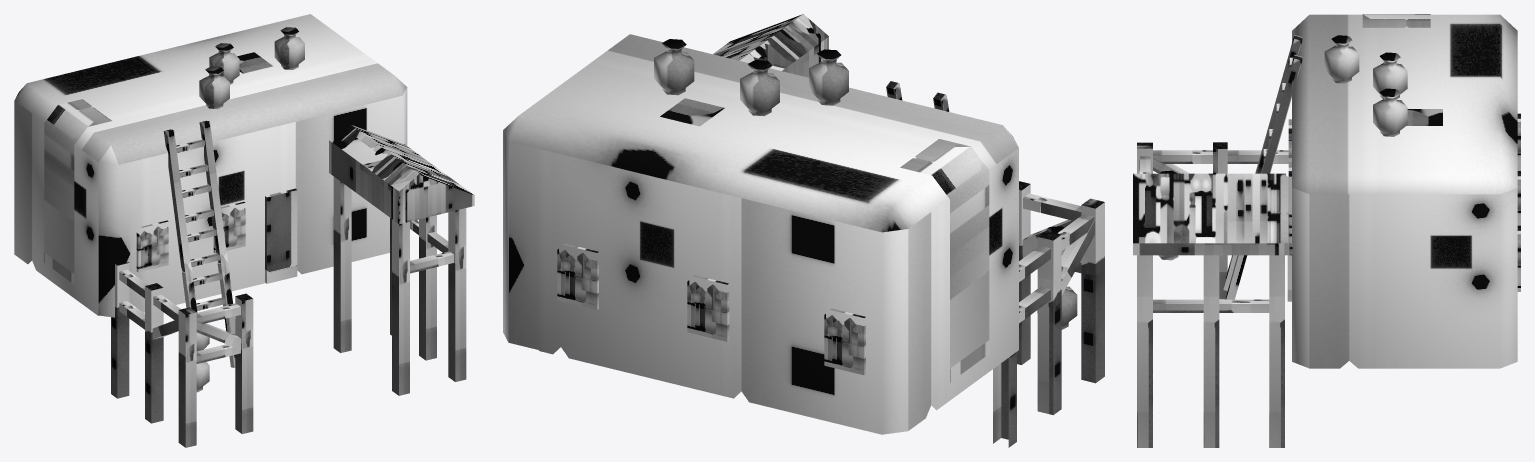
Rendered from barracks_hopi.dae.
3 renders of one model, left to right at view 1: azimuth 30°, elevation 25°; view 2: azimuth 150°, elevation 25°; view 3: azimuth 270°, elevation 25°, orthographic. The views are drawn at different scales.
Visible parts, largest first — view 1: Barracks; view 2: Barracks; view 3: Barracks.
Part boxes in pixels (x1,y1,x2,y2): Barracks: (14, 14, 474, 447); Barracks: (503, 14, 1104, 447); Barracks: (1133, 14, 1520, 447).
Bounding box in the file's own units: 18.11 × 17.38 × 15.8.
